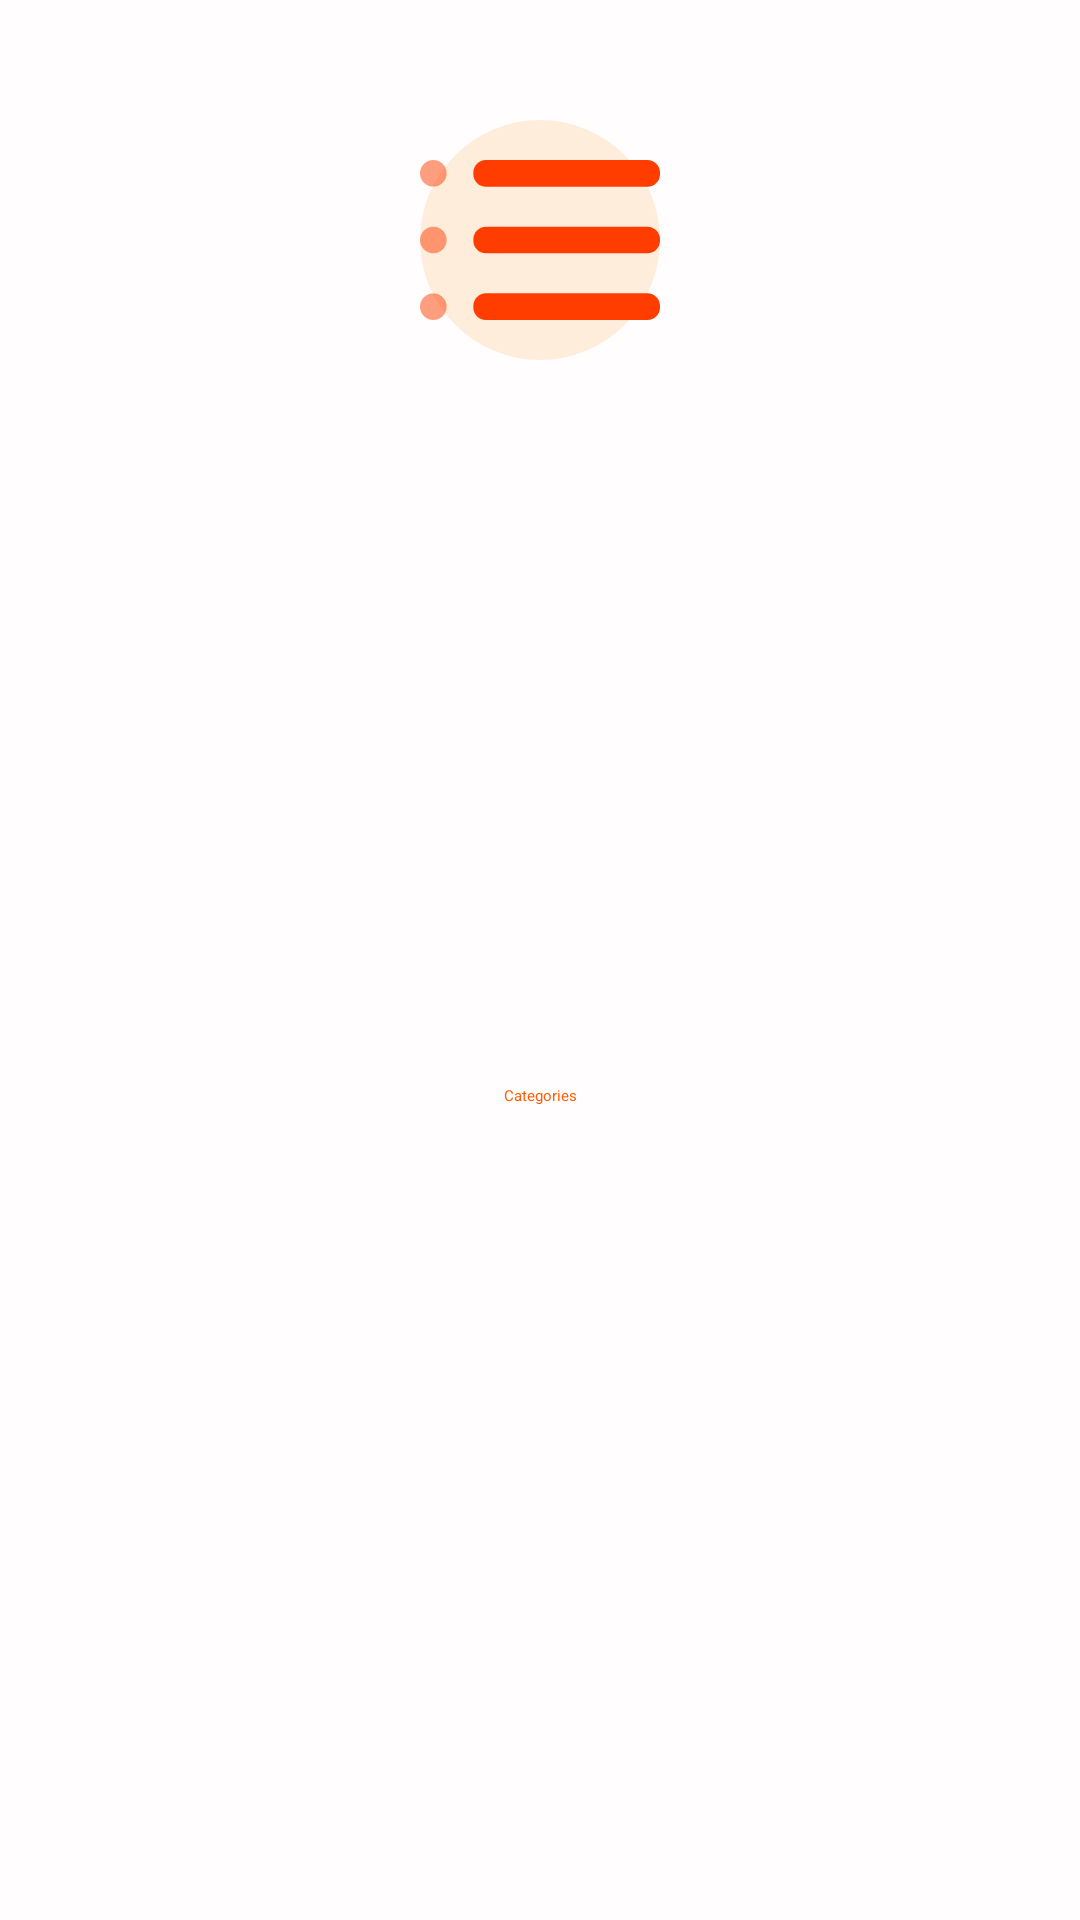

Point at icon controls on the screen. Image size 1080px×1920px, points as (x=x, y=y).
categories: (x=540, y=240)
